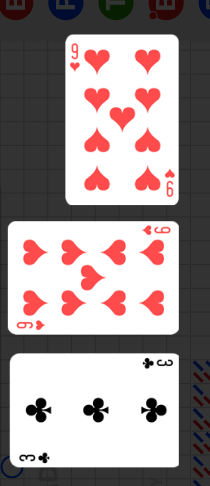3C: (18, 450, 53, 464)
9H: (164, 167, 177, 198), (69, 42, 82, 73)
